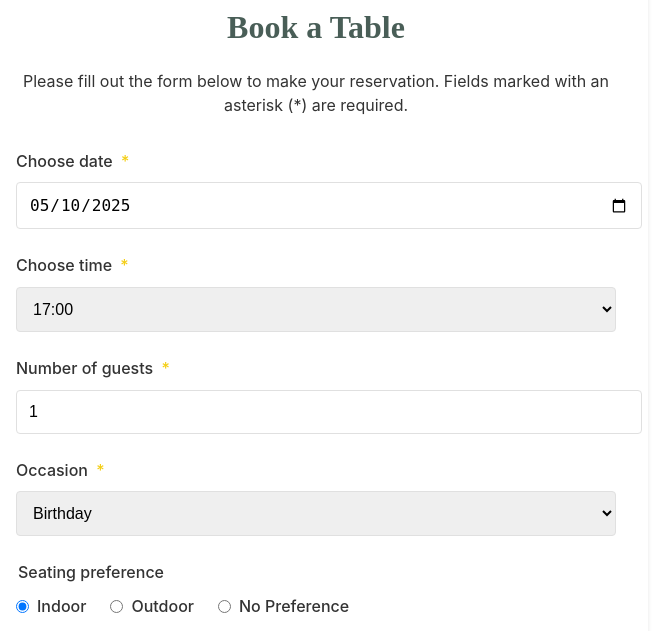
Scenario: BookingForm Component › validates required fields on blur
This screenshot has width=659, height=631.
Note: Test date validation
Clear the date field labelled "Choose date *" at x=329, y=206, box [16,182,642,229]
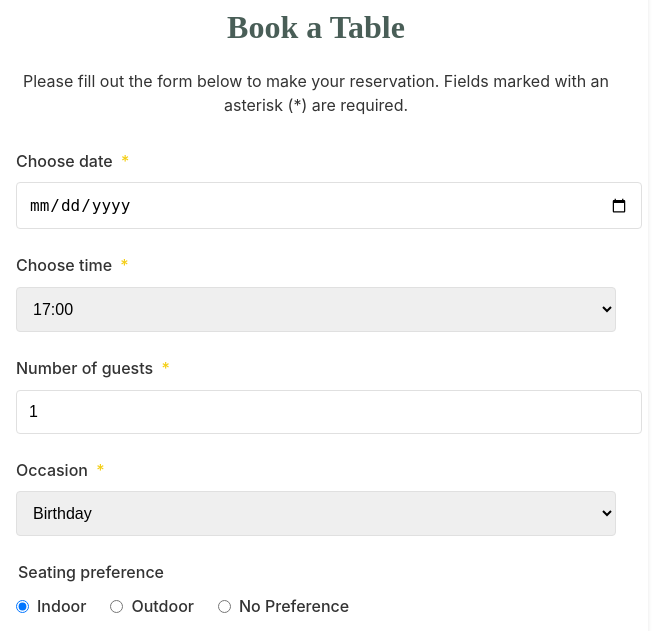
Leave the date field labelled "Choose date *", box [16,182,642,229]
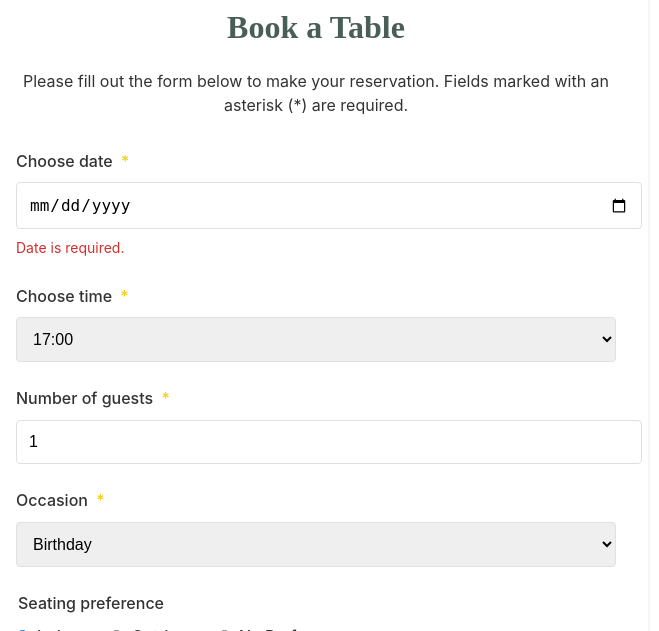
Expected: the text "Date is required." is shown, [16,239,124,256]
Note: Test guests validation
Replace the text in the number field labelled "Number of guests *" with "0" at x=329, y=442, box [16,420,642,464]
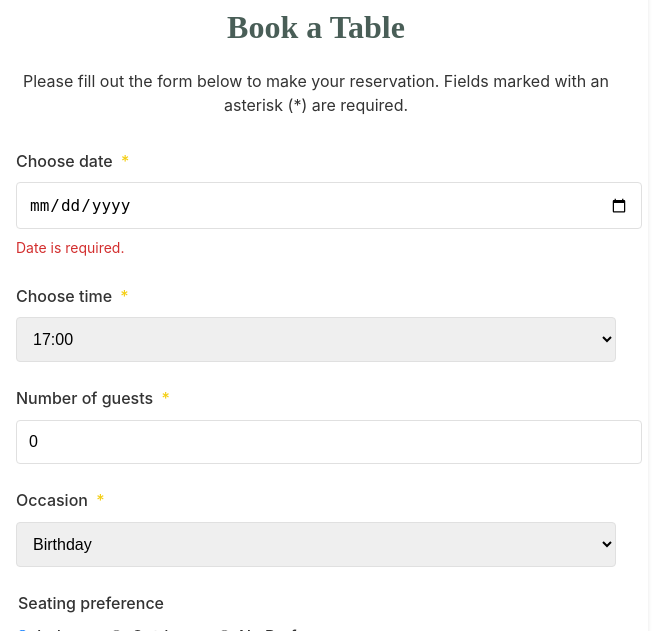
Leave the number field labelled "Number of guests *", box [16,420,642,464]
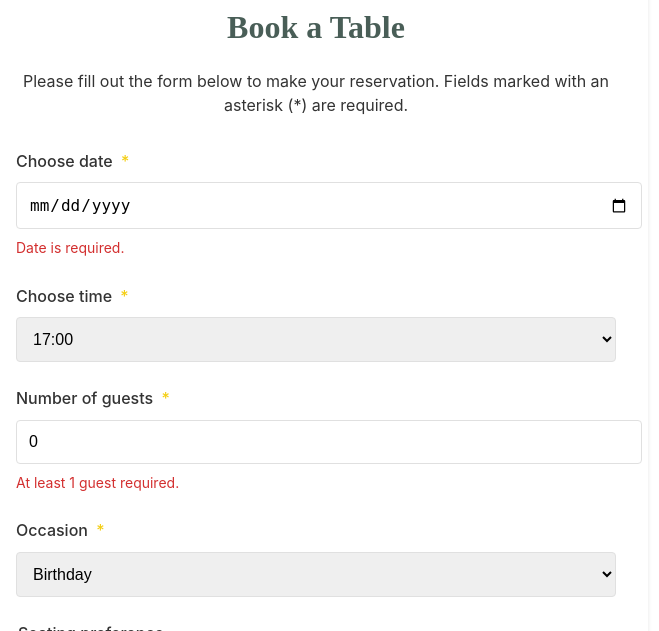
Expected: the text "At least 1 guest required." is shown, [16,474,179,491]
Note: Test occasion validation
Select "" in the dropdown labelled "Occasion *" at x=316, y=574, box [16,552,616,597]
Leave the dropdown labelled "Occasion *", box [16,552,616,597]
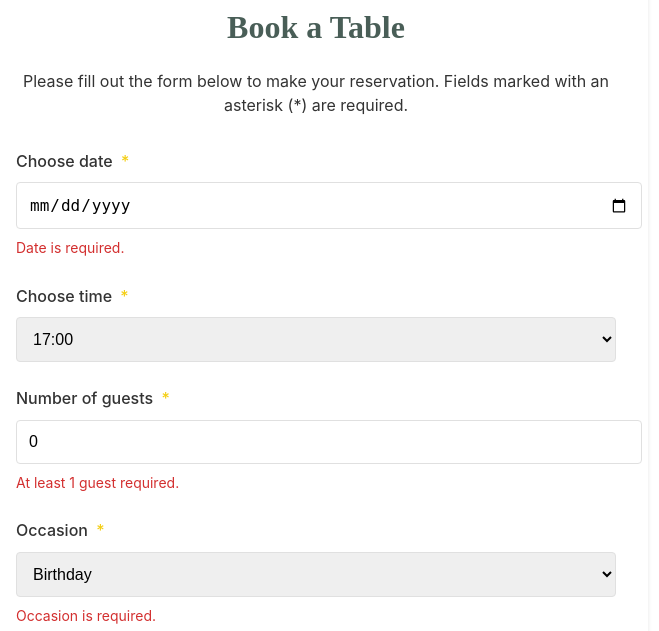
Expected: the text "Occasion is required." is shown, [16,607,156,624]
